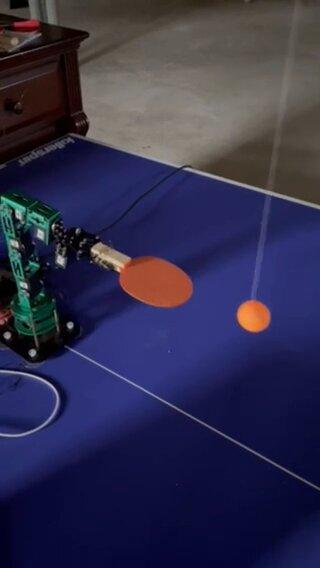oball: (237, 302, 270, 332)
